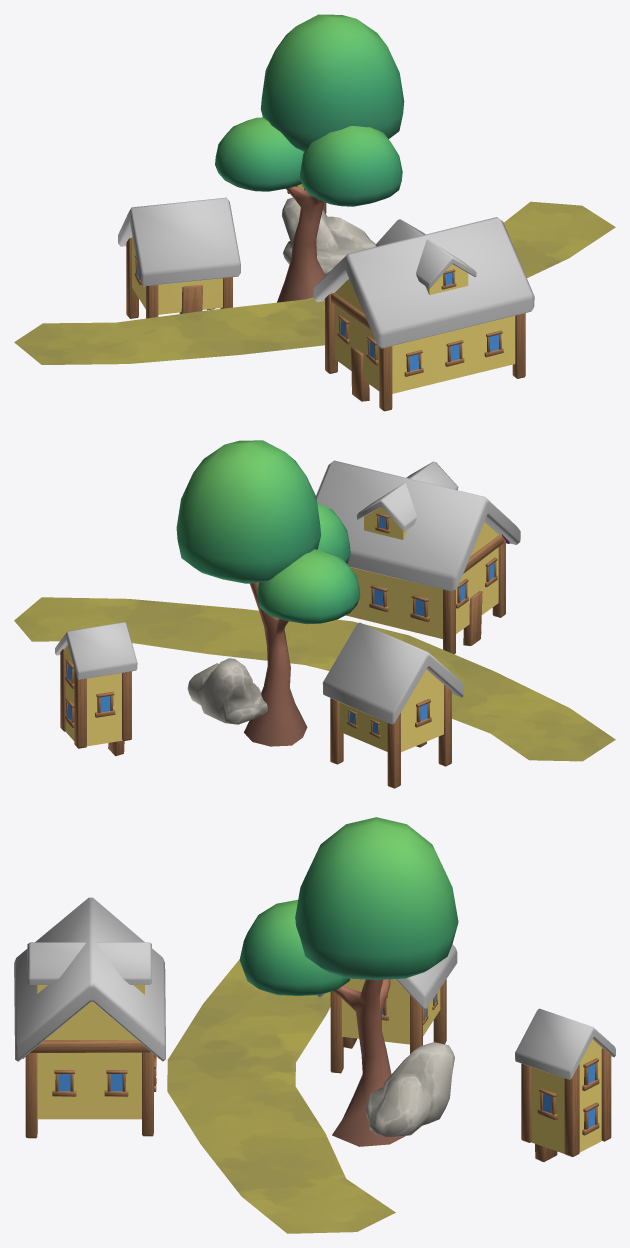
The model's file is City_02.fbx.
3 renders of one model, top to bottom at view 1: azimuth 30°, elevation 25°; view 2: azimuth 150°, elevation 25°; view 3: azimuth 270°, elevation 25°, orthographic. The views are drawn at different scales.
Parts seen in each view (by area): view 1: City_02; view 2: City_02; view 3: City_02.
Part boxes in pixels (left/top/right/bottom): City_02: left=14, top=14, right=615, bottom=411; City_02: left=14, top=440, right=615, bottom=788; City_02: left=14, top=817, right=615, bottom=1233.
Size of the model in its own units: 202 by 95.23 by 161.
